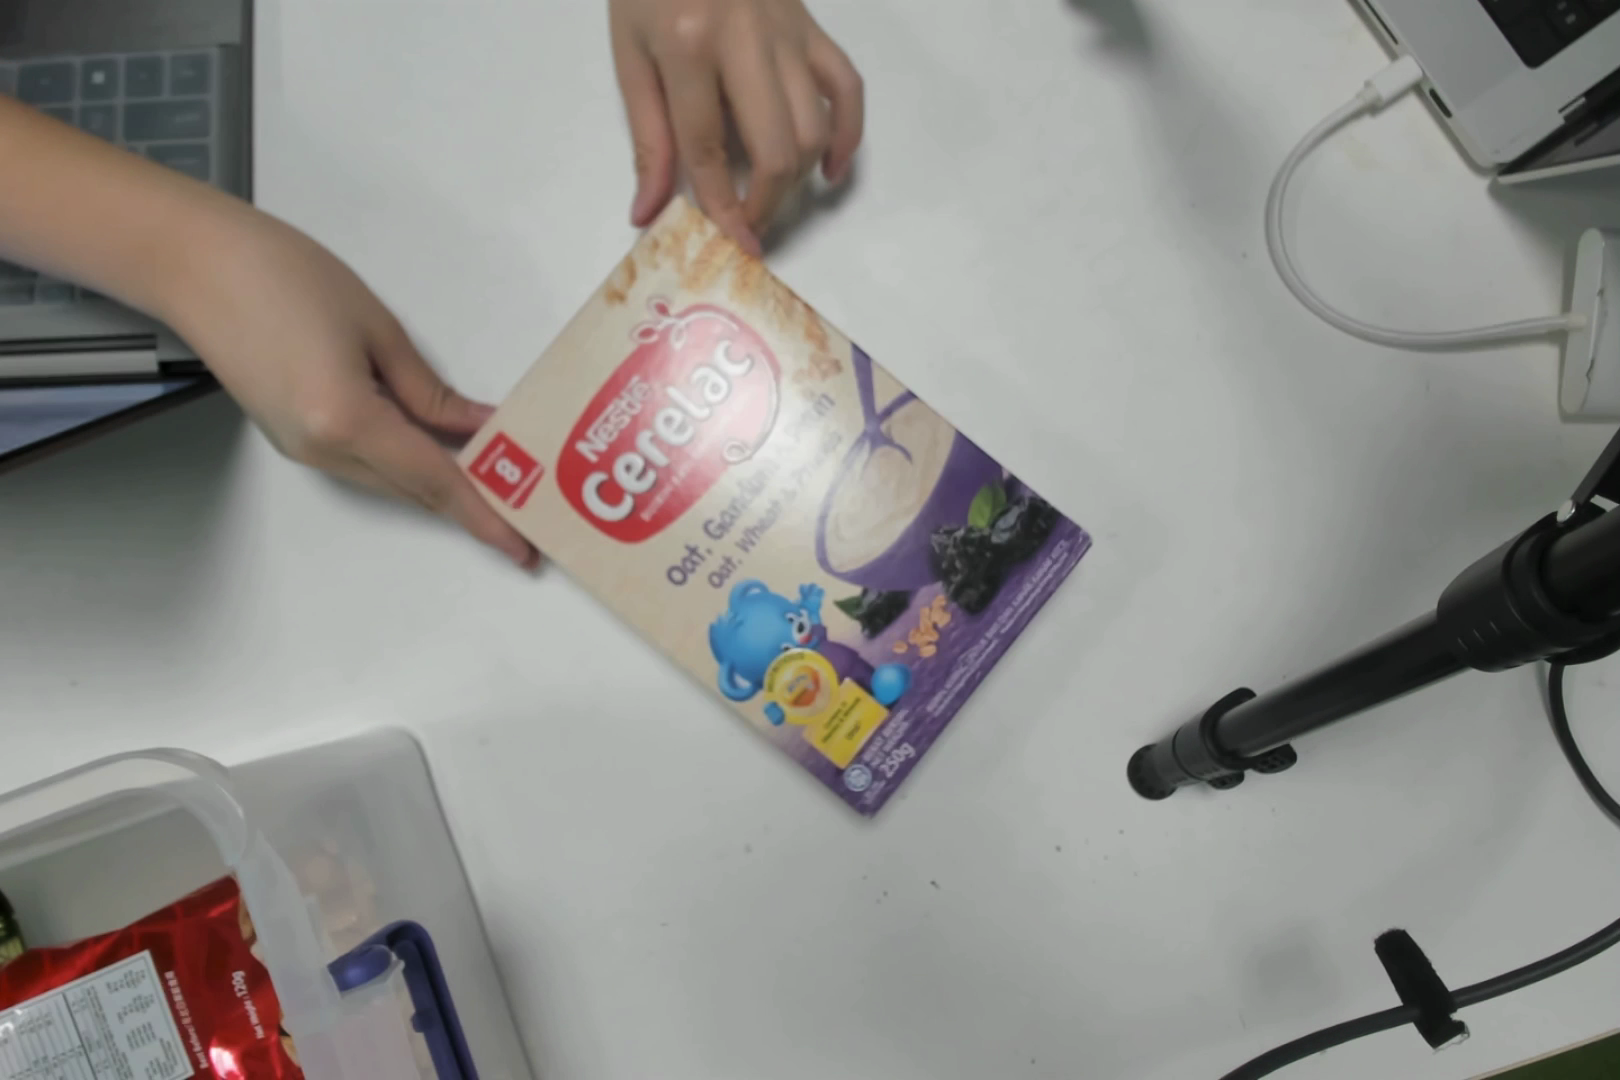d: (494, 315, 1068, 804)
